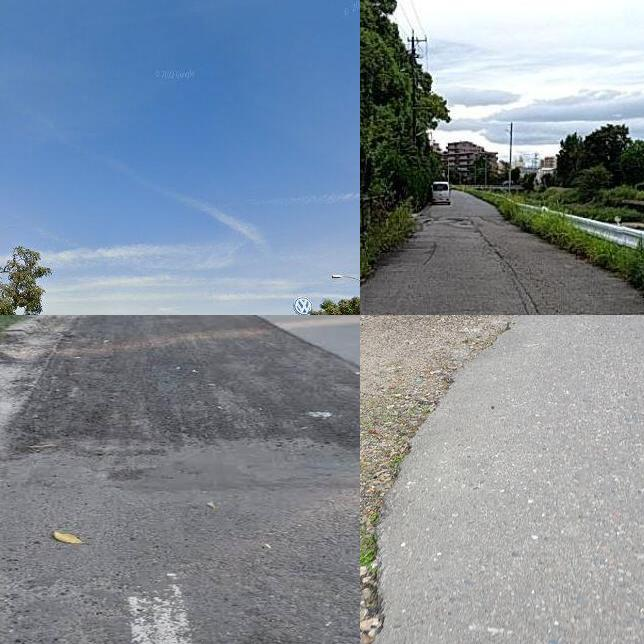Pinggir: (360, 315, 552, 644)
Sambungan: (7, 315, 360, 451)
